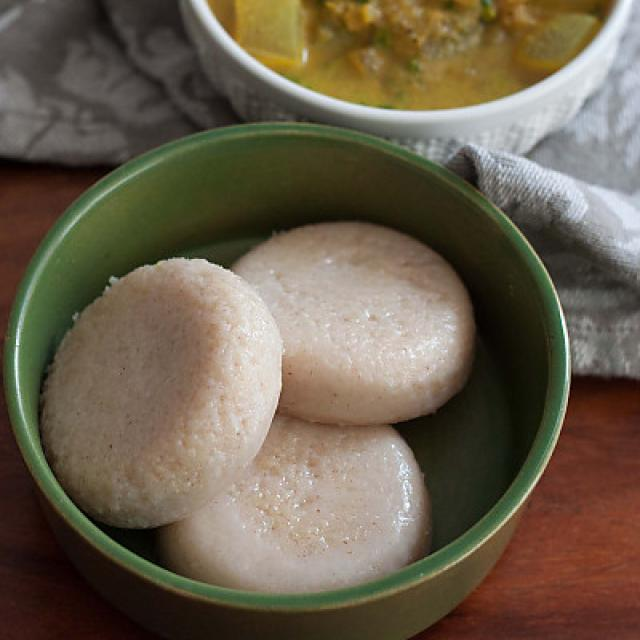Idly: (26, 242, 290, 538), (238, 212, 496, 442), (165, 405, 436, 609)
